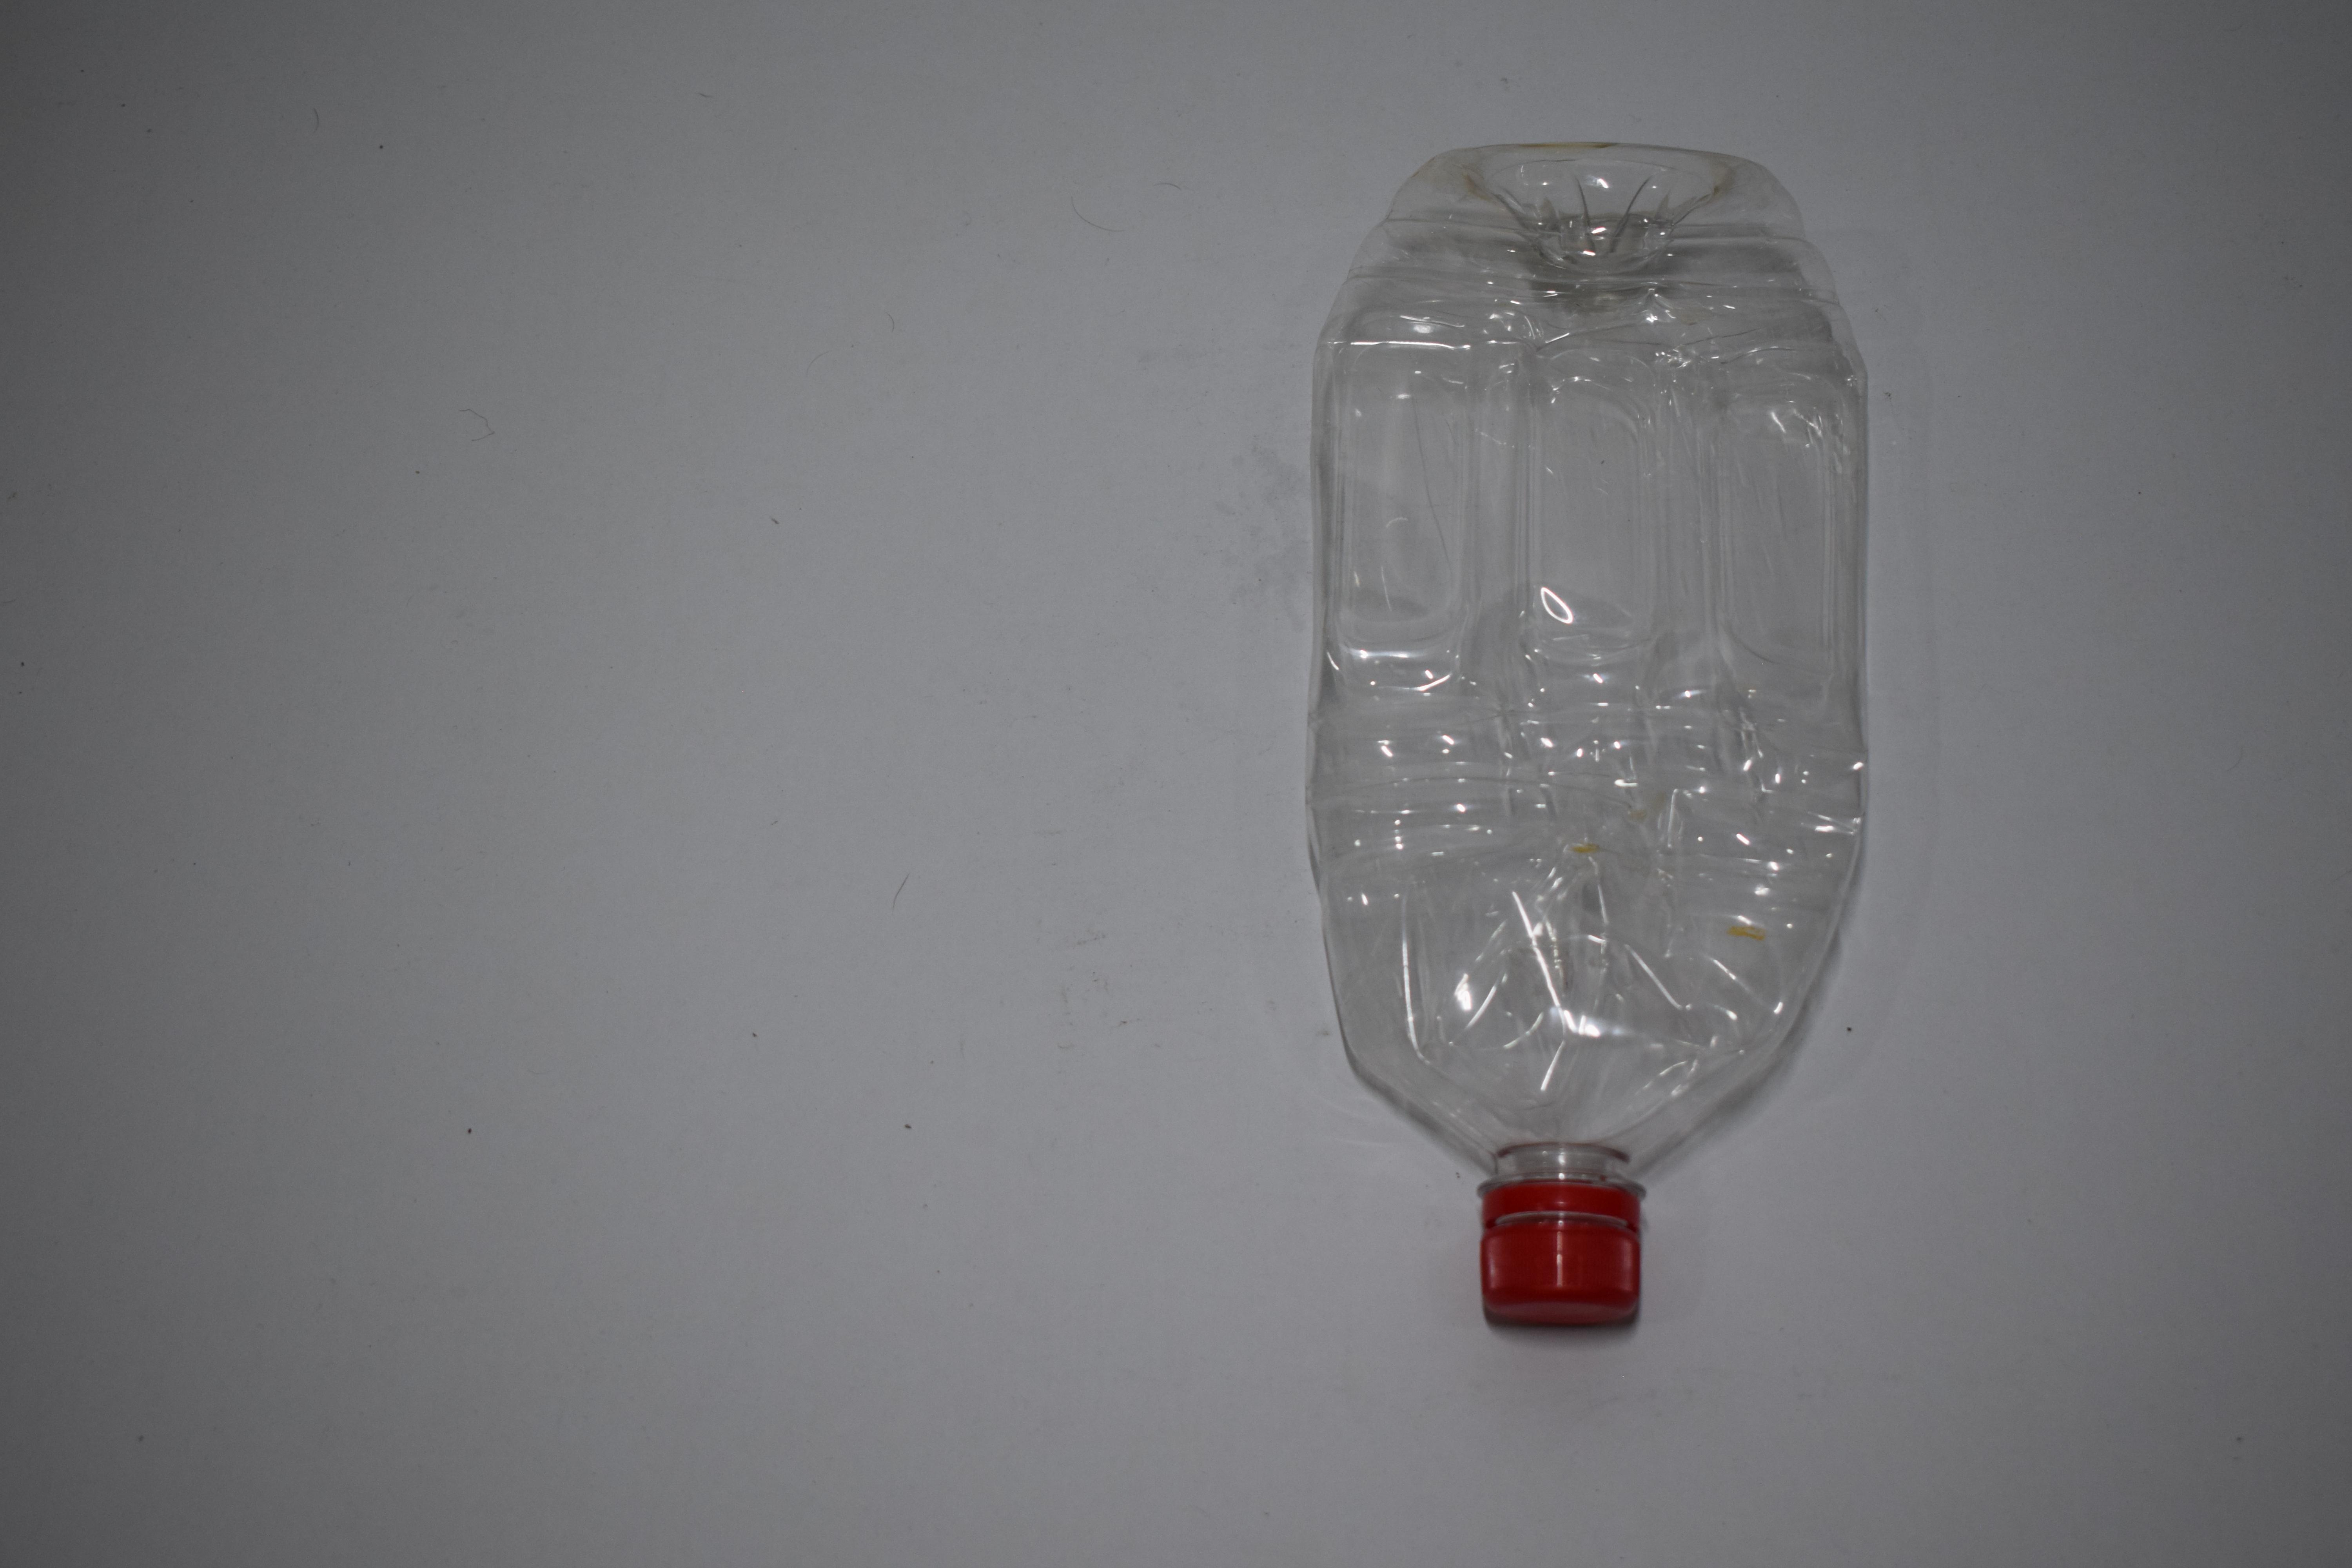bottle: (1286, 133, 1869, 1341)
